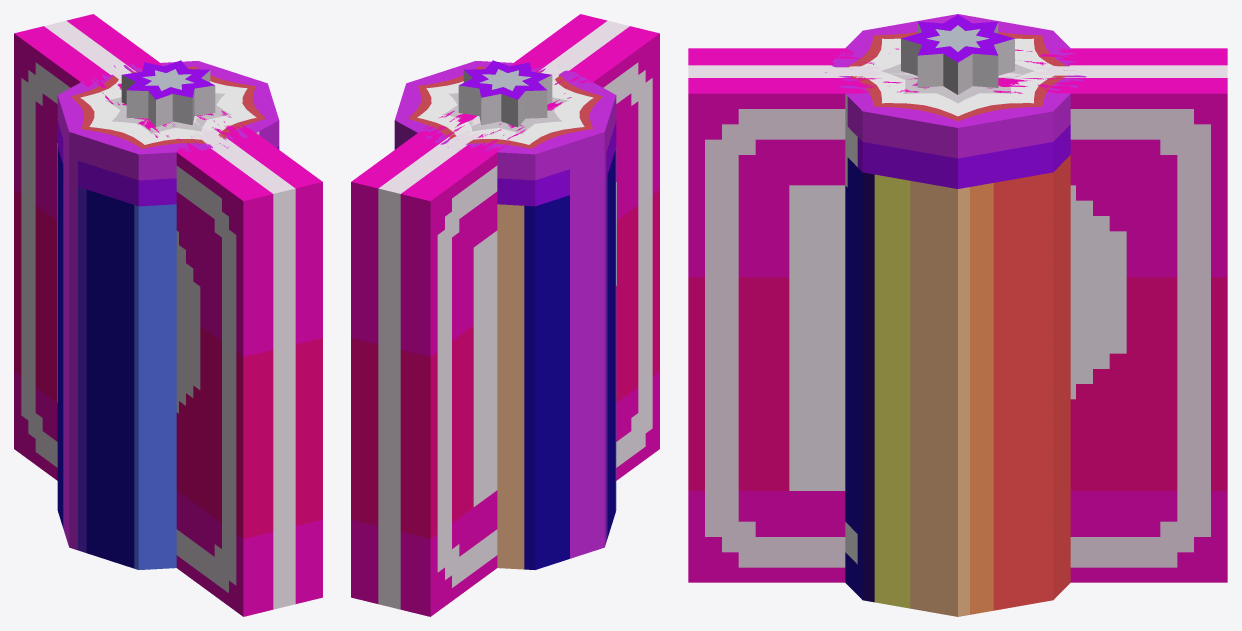
File: Powerstation.fbx
The picture shows the model from 3 angles, left to right: view 1: azimuth 30°, elevation 25°; view 2: azimuth 150°, elevation 25°; view 3: azimuth 270°, elevation 25°; orthographic projection. The views are drawn at different scales.
Parts seen in each view (by area): view 1: Cube, Cylinder; view 2: Cube, Cylinder; view 3: Cube, Cylinder.
Part boxes in pixels (x1,y1,x2,y2): Cube: (14, 14, 322, 616); Cylinder: (57, 60, 279, 569); Cube: (351, 14, 659, 616); Cylinder: (394, 60, 616, 569); Cube: (688, 48, 1227, 582); Cylinder: (825, 14, 1086, 616).
Size of the model in its own units: 100 by 213 by 200.
